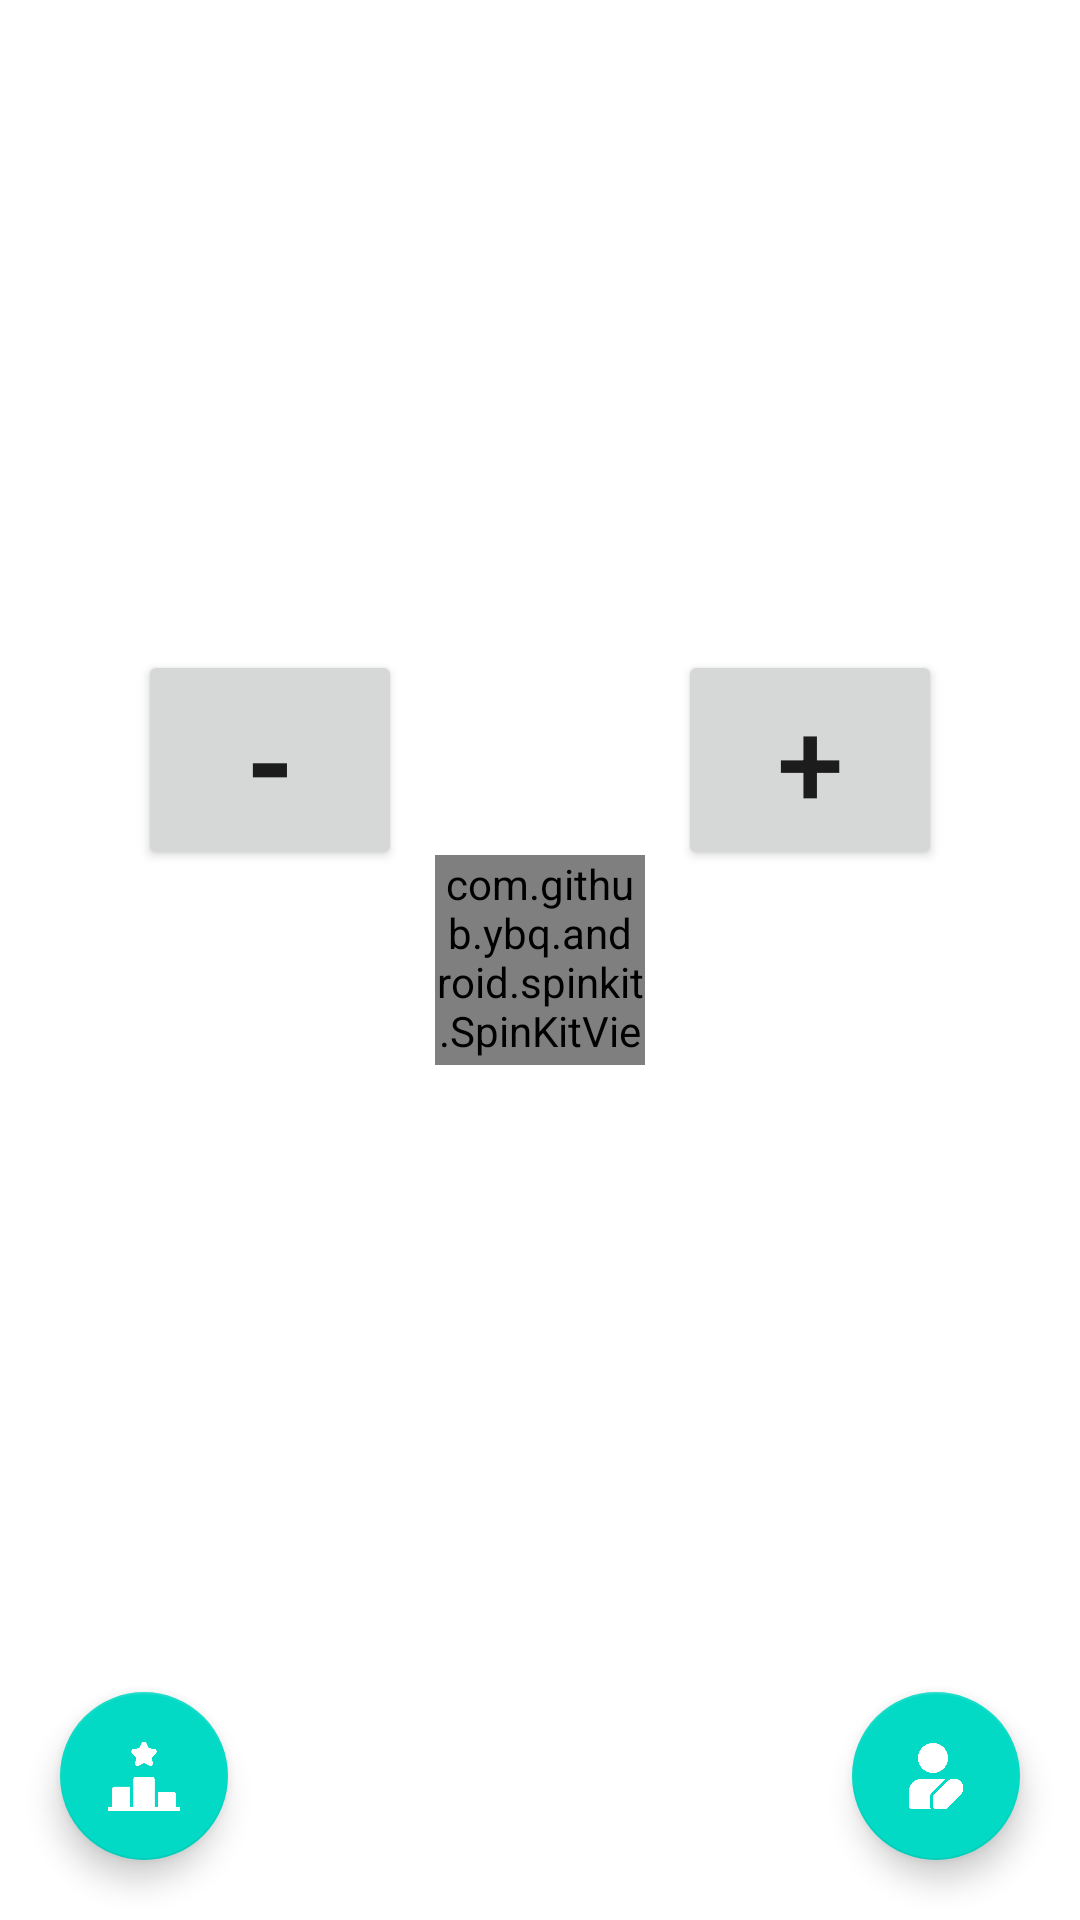

Point at icon controls on the screen. Image size 1080 × 1920, points as point (x, y).
leaderboard: point (144, 1776)
register: point (936, 1776)
